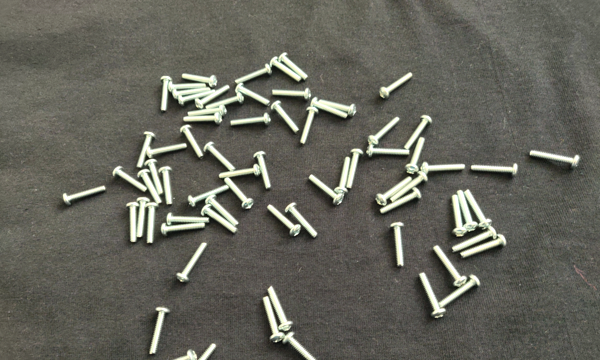longscrew: (432, 246, 468, 288), (439, 275, 482, 310), (418, 272, 447, 320), (176, 242, 209, 284), (389, 171, 429, 204), (452, 226, 498, 254), (267, 285, 294, 332), (285, 203, 319, 240), (374, 175, 413, 207), (282, 331, 325, 360), (379, 187, 422, 216), (267, 203, 302, 238), (460, 234, 507, 260), (201, 204, 240, 235), (147, 307, 171, 357), (465, 189, 494, 230), (205, 195, 240, 228), (262, 296, 286, 344), (309, 174, 345, 206), (186, 184, 230, 209), (403, 115, 433, 151), (224, 177, 255, 211), (203, 141, 237, 172), (270, 101, 301, 135), (379, 71, 414, 101), (367, 117, 401, 147), (529, 150, 582, 169), (61, 184, 106, 206), (310, 96, 349, 121), (136, 169, 163, 205), (112, 166, 148, 193), (457, 190, 479, 233), (278, 52, 310, 81), (234, 83, 271, 108), (195, 84, 230, 110), (179, 125, 204, 161), (234, 63, 273, 86), (270, 56, 303, 83), (404, 137, 427, 175), (136, 131, 158, 169), (161, 221, 206, 239), (144, 159, 165, 197), (253, 151, 273, 190), (177, 88, 216, 108), (334, 157, 354, 196), (299, 107, 319, 145), (319, 99, 357, 119), (146, 142, 188, 160), (390, 221, 406, 268), (346, 148, 364, 189), (451, 195, 468, 238), (205, 92, 245, 110), (230, 112, 272, 129), (218, 164, 261, 180), (366, 145, 411, 160), (421, 160, 466, 175), (178, 343, 217, 360), (166, 212, 210, 227), (271, 86, 312, 102), (125, 202, 140, 245), (145, 202, 160, 245), (158, 166, 174, 206), (182, 72, 219, 89), (136, 198, 151, 239), (172, 86, 212, 101), (470, 163, 520, 175), (187, 104, 228, 118), (158, 75, 173, 113), (148, 349, 198, 360), (182, 112, 224, 125), (169, 80, 208, 94)
